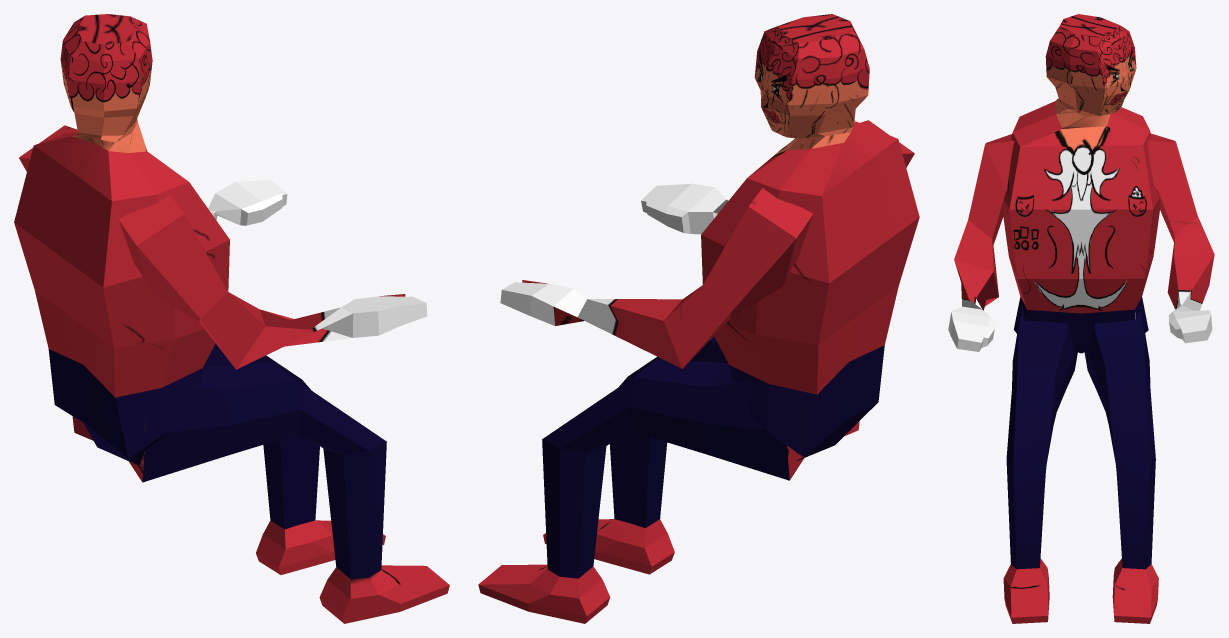
The model's file is AssisRegardeAGauche.fbx.
The picture shows the model from 3 angles, left to right: view 1: azimuth 30°, elevation 25°; view 2: azimuth 150°, elevation 25°; view 3: azimuth 270°, elevation 25°; orthographic projection. The views are drawn at different scales.
Parts seen in each view (by area): view 1: Cube.001; view 2: Cube.001; view 3: Cube.001.
Part boxes in pixels (box(x1,y1,x2,y2)): Cube.001: box(14, 14, 449, 623); Cube.001: box(478, 14, 919, 623); Cube.001: box(948, 14, 1214, 623).
Bounding box in the file's own units: 195 × 326 × 161.
